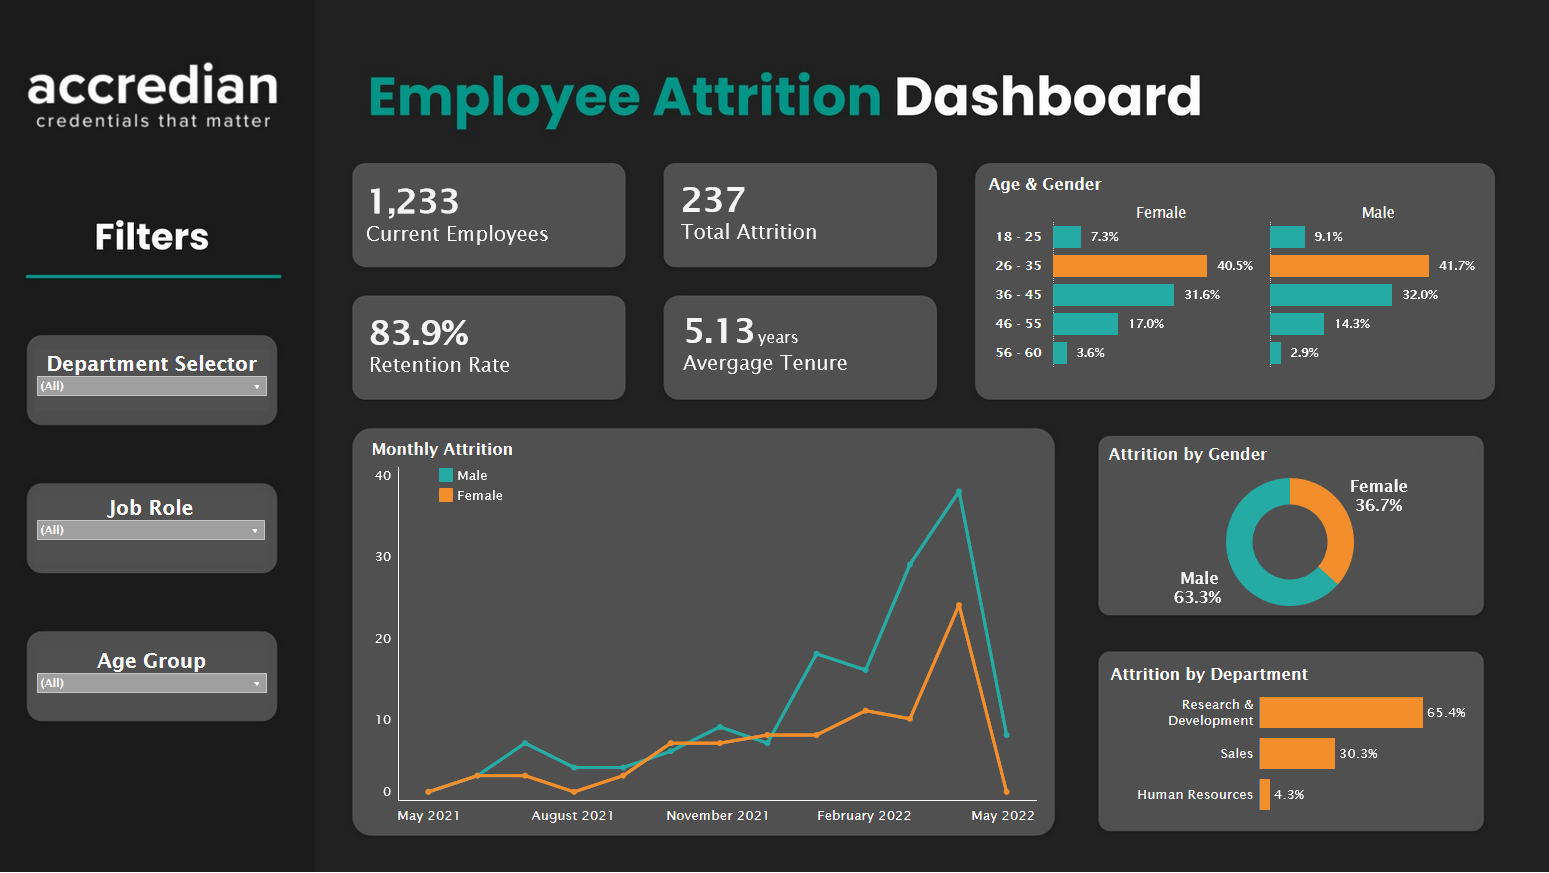

The dashboard page shown, as its layout file describes it:
{"tool":"tableau","page":{"name":"Final Dashbaord","canvas":[1709,896],"ordinal":0},"visuals":[{"type":"image","param":"Image/Dashboard Layout.png","box":[8,8,1693,880]},{"type":"worksheet","title":"Attrition by Age & Gender","mark":"Bar","cols":["Gender"],"box":[1065,180,505,223]},{"type":"worksheet","title":"# of Current Employees","mark":"Automatic","box":[442,193,261,76]},{"type":"worksheet","title":"# of Total Attrition","mark":"Automatic","box":[757,193,209,73]},{"type":"worksheet","title":"Average Tenure","mark":"Automatic","box":[759,324,224,81]},{"type":"worksheet","title":"Retention Rate","mark":"Automatic","box":[445,326,188,79]},{"type":"filter","title":"Monthly Attrition","param":"[federated.1vvpbcy1rhh6ff1fu8w3o1hs2s1r].[none:Department:nk]","box":[115,362,234,61]},{"type":"worksheet","title":"Monthly Attrition","mark":"Line","rows":["Attrition"],"cols":["Attrition Date"],"box":[448,445,669,397]},{"type":"worksheet","title":"Attrition by Gender","mark":"Automatic","rows":["Calculation_5434155967420743697","Calculation_5434155967420776467"],"box":[1185,450,370,174]},{"type":"legend","title":"Monthly Attrition","param":"[federated.1vvpbcy1rhh6ff1fu8w3o1hs2s1r].[none:Gender:nk]","box":[516,477,286,56]},{"type":"filter","title":"Monthly Attrition","param":"[federated.1vvpbcy1rhh6ff1fu8w3o1hs2s1r].[none:JobRole:nk]","box":[115,506,232,70]},{"type":"filter","title":"Attrition by Age & Gender","param":"[federated.1vvpbcy1rhh6ff1fu8w3o1hs2s1r].[Age Sections]","box":[116,660,232,49]},{"type":"worksheet","title":"Attrition by Department","mark":"Bar","rows":["Department"],"cols":["Calculation_5745748766674083846"],"box":[1187,670,374,161]}]}

Visuals, with their boxes on the page's 1709x896 design canvas (x1, y1, x2, y2). These are canvas units, not pixel positions in the 1549x873 screenshot, which may show the page scaled, cropped or inside an application window:
image: 8:8:1701:888
"Attrition by Age & Gender" worksheet (Bar marks): 1065:180:1570:403
"# of Current Employees" worksheet: 442:193:703:269
"# of Total Attrition" worksheet: 757:193:966:266
"Average Tenure" worksheet: 759:324:983:405
"Retention Rate" worksheet: 445:326:633:405
"Monthly Attrition" filter: 115:362:349:423
"Monthly Attrition" worksheet (Line marks): 448:445:1117:842
"Attrition by Gender" worksheet: 1185:450:1555:624
"Monthly Attrition" legend: 516:477:802:533
"Monthly Attrition" filter: 115:506:347:576
"Attrition by Age & Gender" filter: 116:660:348:709
"Attrition by Department" worksheet (Bar marks): 1187:670:1561:831
